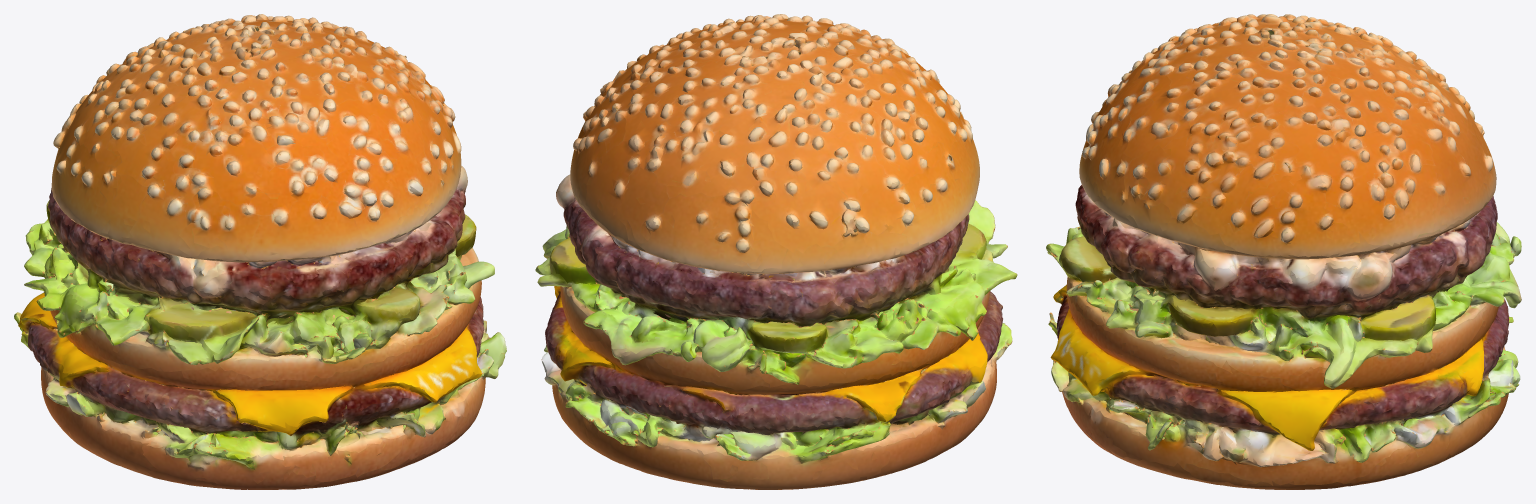
The picture shows the model from 3 angles, left to right: view 1: azimuth 30°, elevation 25°; view 2: azimuth 150°, elevation 25°; view 3: azimuth 270°, elevation 25°; orthographic projection.
Parts seen in each view (by area): view 1: geometry_0; view 2: geometry_0; view 3: geometry_0.
Part boxes in pixels (bbox=[...]): geometry_0: bbox=[14, 14, 506, 489]; geometry_0: bbox=[535, 14, 1017, 489]; geometry_0: bbox=[1046, 14, 1521, 489].
Bounding box in the file's own units: 0.1504 × 0.125 × 0.1501.
Materials: 1 (1 with a texture image).
